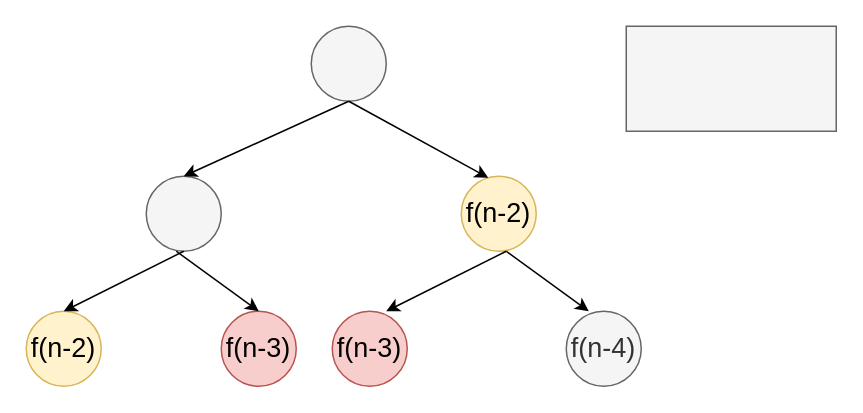
Some shapes in this 863 by 413 pixel diagram are drawn without their labels. Each missing label, with the centre of its shape:
"f(n)" goes at pixel 348 63.
"f(n-1)" goes at pixel 183 213.
"重复计算 f(n-2) f(n-3)" goes at pixel 730 78.
